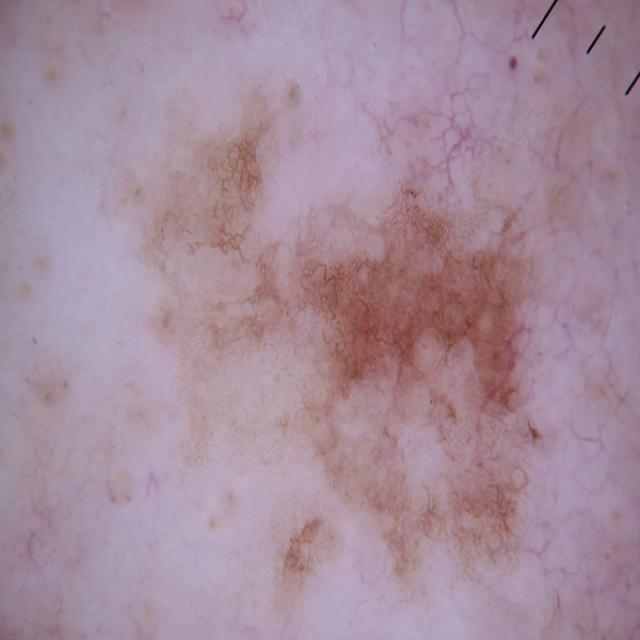Skin-Cancer Pigmented benign keratosis: (63, 18, 640, 640)
